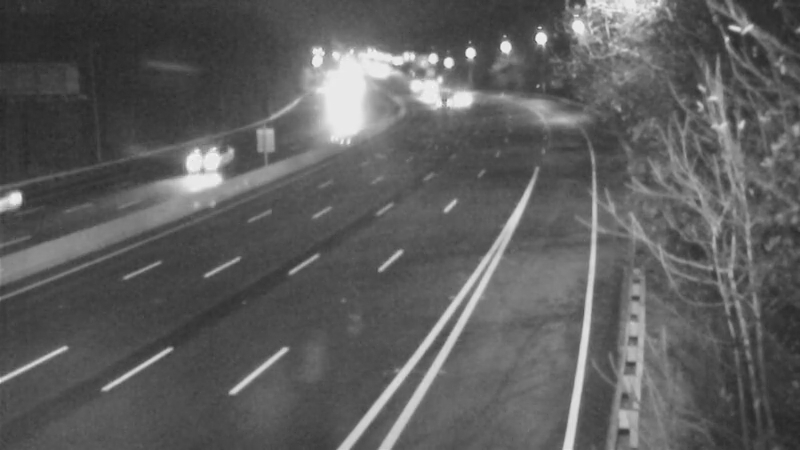vehicle: (155, 122, 235, 202), (1, 158, 66, 238), (435, 73, 485, 123), (408, 78, 458, 128)
